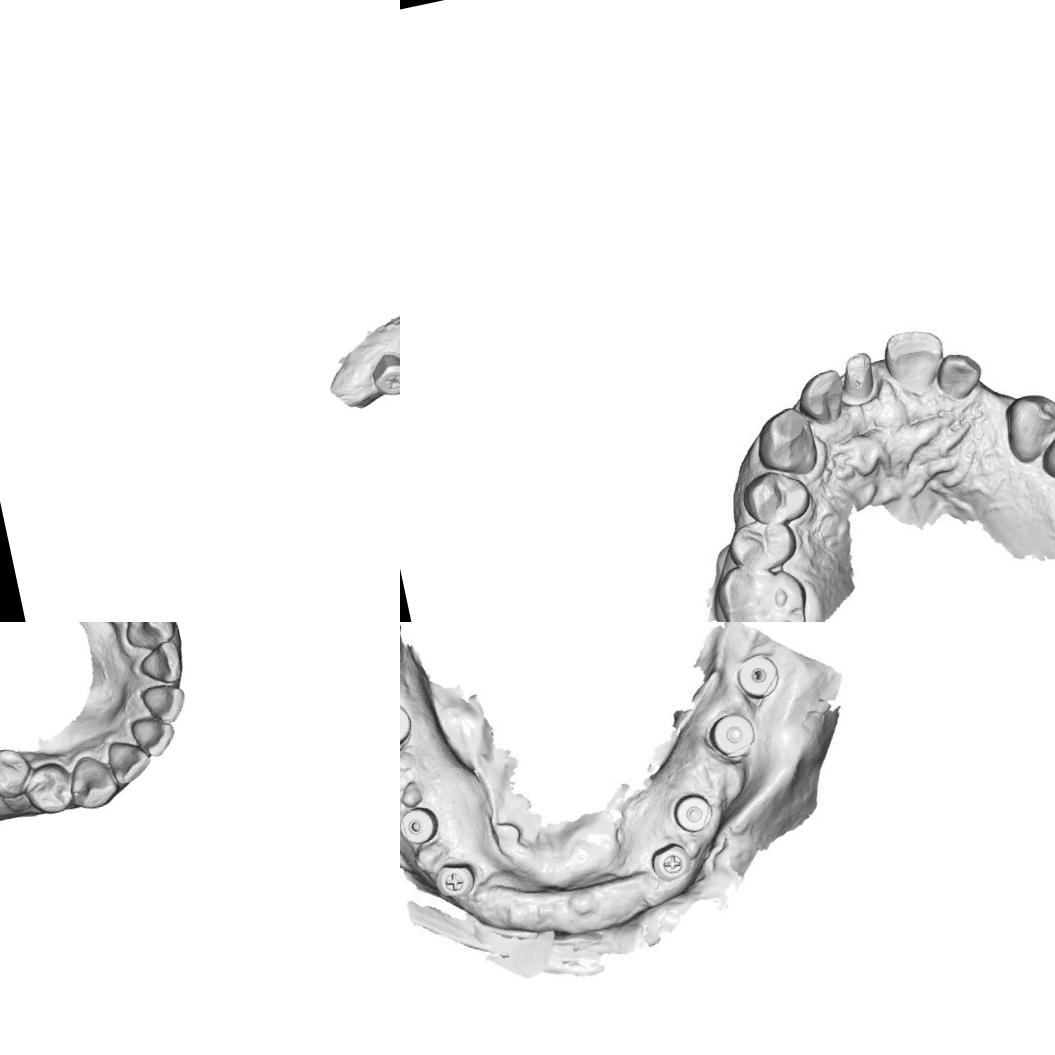canine: (749, 400, 829, 482), (64, 750, 122, 814), (120, 622, 179, 653)
implant: (732, 654, 780, 702), (674, 792, 718, 838), (712, 714, 754, 756), (400, 804, 443, 845), (400, 695, 419, 760)
implant_plus: (436, 854, 480, 901), (647, 840, 690, 885), (366, 348, 400, 401)
incisor: (880, 325, 947, 392), (796, 365, 853, 429), (834, 342, 888, 406), (932, 348, 986, 402), (138, 678, 191, 728), (128, 710, 179, 761), (105, 734, 154, 787), (136, 638, 185, 688)
molar: (717, 557, 809, 622)
premolar: (995, 389, 1055, 461), (728, 517, 796, 578), (743, 469, 811, 530), (19, 758, 78, 820), (0, 742, 36, 803), (1041, 412, 1055, 477)
